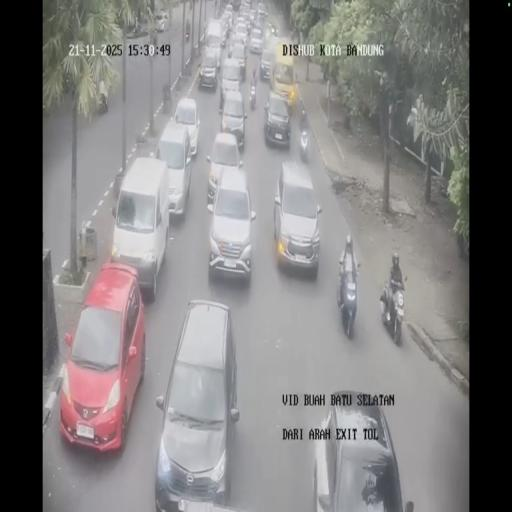3: (230, 0, 241, 11)
car: (111, 158, 170, 296), (206, 164, 254, 282), (273, 160, 321, 274), (154, 119, 194, 217), (218, 91, 247, 151), (263, 91, 292, 147), (204, 19, 224, 61), (198, 52, 220, 90), (228, 40, 247, 79), (259, 47, 274, 82), (220, 8, 234, 38), (250, 27, 264, 55), (234, 20, 248, 47), (154, 11, 170, 32), (256, 1, 267, 22), (248, 8, 258, 27), (240, 0, 251, 16)
truck: (380, 270, 407, 346), (339, 262, 360, 338), (250, 83, 256, 109), (184, 24, 190, 41)
